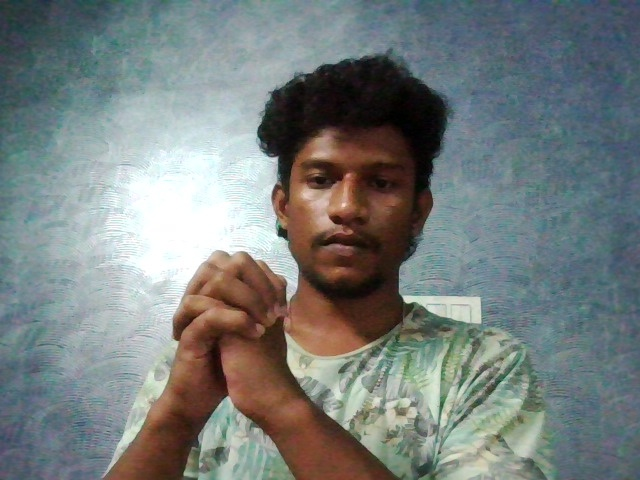together: (133, 222, 362, 472)
